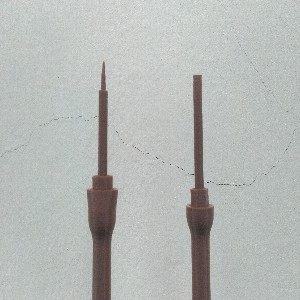obeng: (185, 73, 215, 300)
solder: (86, 61, 119, 300)
